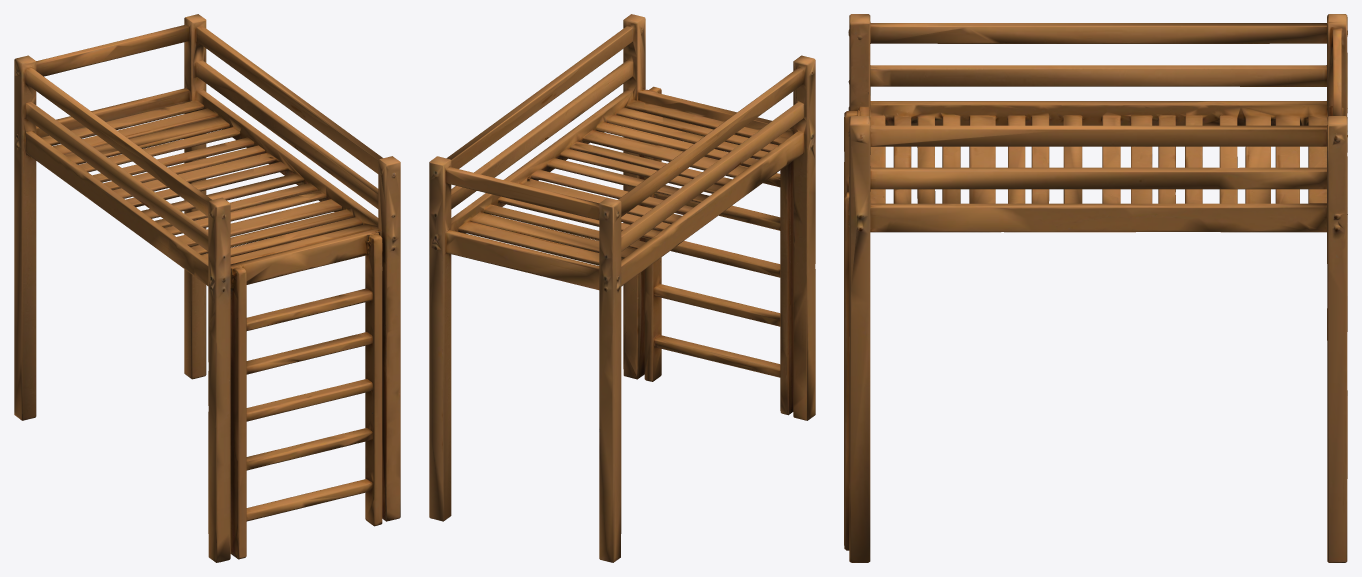
File: bed-loft.glb
3 views of the same model, side by side, from view 1: azimuth 30°, elevation 25°; view 2: azimuth 150°, elevation 25°; view 3: azimuth 270°, elevation 25° (orthographic). The views are drawn at different scales.
Visible parts, largest first — view 1: material; view 2: material; view 3: material.
Part boxes in pixels (x1,y1,x2,y2): material: (14, 14, 400, 562); material: (429, 14, 815, 562); material: (844, 14, 1347, 562).
Bounding box in the file's own units: 0.4275 × 0.7804 × 0.8108.
Materials: 1 (1 with a texture image).
